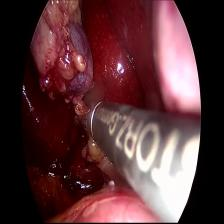Scissors: (74, 92, 105, 136)
